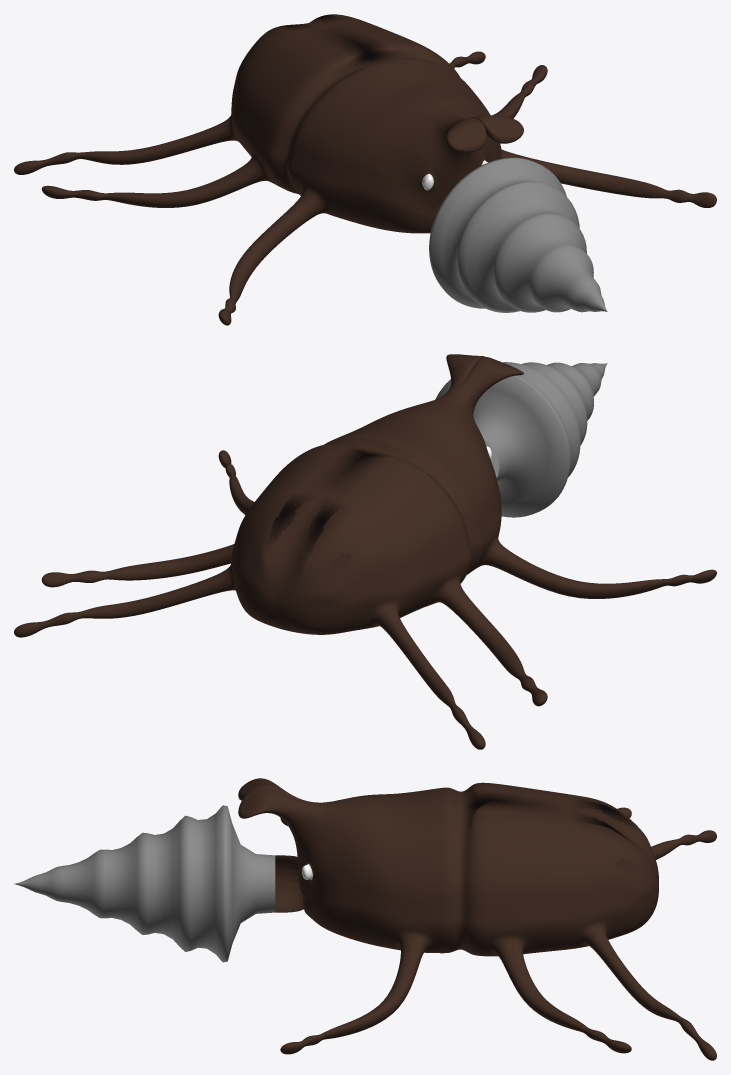
File: ドリルビートル.fbx
3 views of the same model, one above another, from view 1: azimuth 30°, elevation 25°; view 2: azimuth 150°, elevation 25°; view 3: azimuth 270°, elevation 25° (orthographic). The views are drawn at different scales.
Parts seen in each view (by area): view 1: 球, 円; view 2: 球, 円; view 3: 球, 円.
Part boxes in pixels (bbox=[...]): 球: bbox=[14, 14, 716, 325]; 円: bbox=[429, 157, 607, 312]; 球: bbox=[14, 354, 716, 749]; 円: bbox=[435, 362, 607, 517]; 球: bbox=[238, 778, 716, 1060]; 円: bbox=[14, 805, 275, 962].
Size of the model in its own units: 305 by 99.65 by 378.
